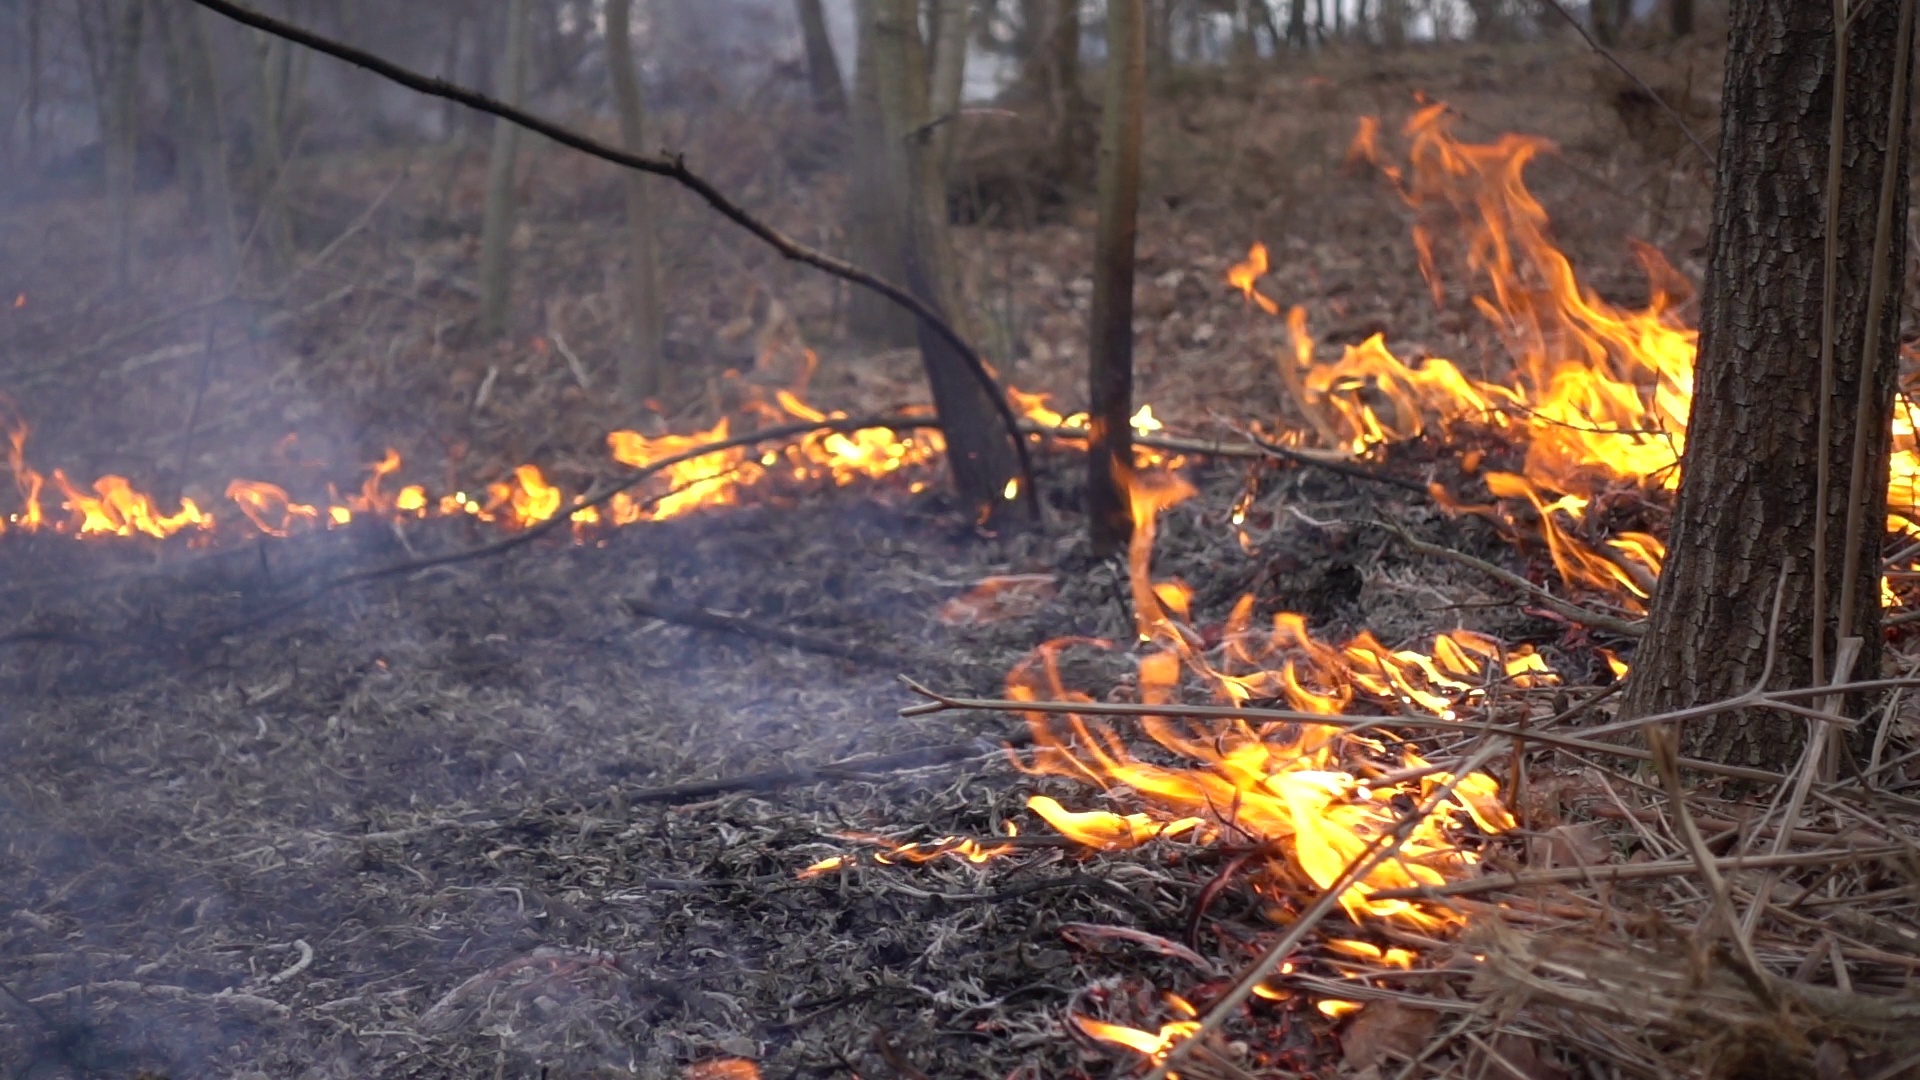fire: (1234, 113, 1693, 560), (985, 609, 1518, 964), (593, 415, 936, 524), (351, 455, 556, 524), (16, 468, 206, 541), (1886, 400, 1920, 537), (1002, 393, 1093, 436)
